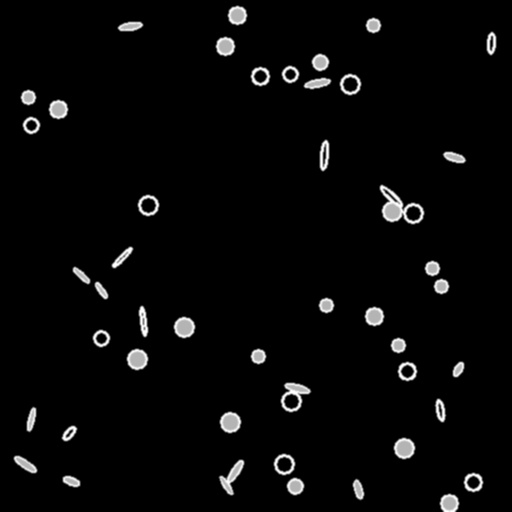pseudomonas: (379, 184, 403, 208), (111, 246, 133, 268), (226, 459, 244, 483), (13, 455, 37, 473), (72, 266, 90, 284), (218, 475, 234, 495), (93, 281, 109, 299), (285, 382, 309, 394), (443, 151, 465, 163), (304, 78, 330, 88), (61, 425, 77, 441), (320, 140, 328, 170), (118, 21, 142, 31), (139, 307, 147, 335), (26, 408, 36, 430), (62, 475, 80, 487), (435, 400, 445, 420), (452, 361, 464, 377), (353, 480, 363, 498), (487, 33, 495, 53)
synechocystis: (275, 455, 293, 473), (139, 196, 157, 214), (383, 202, 401, 220), (128, 350, 146, 368), (395, 439, 413, 457), (282, 392, 300, 410), (404, 204, 422, 222), (175, 318, 193, 336), (341, 75, 359, 93), (221, 413, 239, 431), (399, 363, 415, 379), (441, 495, 457, 511), (50, 101, 66, 117), (252, 68, 268, 84), (465, 474, 481, 490), (366, 308, 382, 324), (217, 38, 233, 54), (229, 7, 245, 23), (283, 67, 297, 81), (94, 331, 108, 345), (288, 479, 302, 493), (313, 55, 327, 69), (24, 118, 38, 132), (22, 91, 34, 103), (426, 262, 438, 274), (392, 339, 404, 351), (320, 299, 332, 311), (367, 19, 379, 31), (252, 350, 264, 362), (435, 280, 447, 292)
